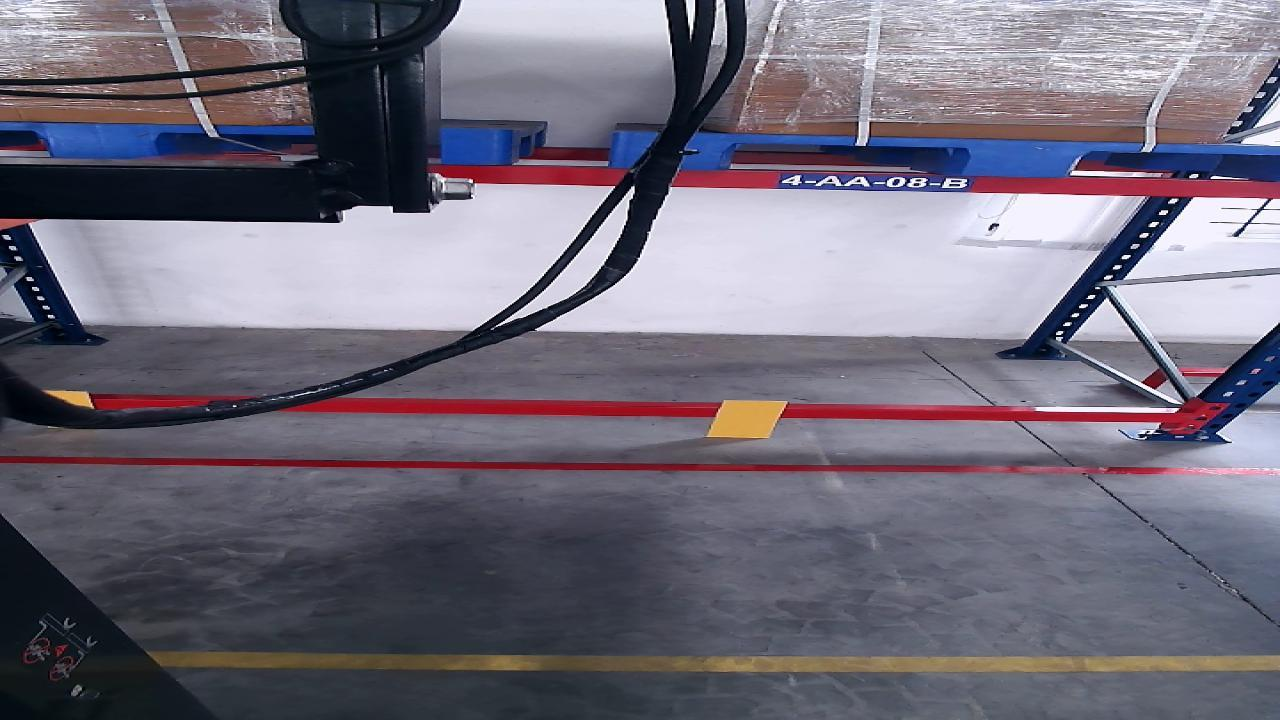h_rack: (99, 399, 1177, 423), (454, 165, 1277, 196)
orange_strip: (706, 400, 787, 438)
red_line: (4, 455, 1275, 475)
small_pallet: (612, 133, 1267, 175), (7, 126, 501, 164)
yellow_line: (147, 652, 1280, 671)
